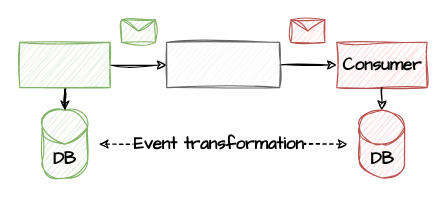
Image size: 447x198. Some labels were removed from this diagram. The shapes that lost their labels are listed below. From the top down, each one's centre as x and y in pixels, then its label:
At (64,64): "Producer".
At (223,64): "Transformer".
